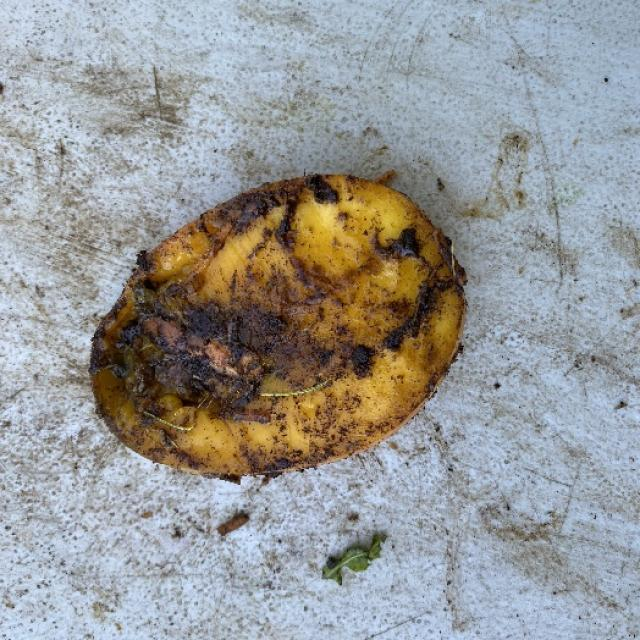organik: (90, 183, 456, 485)
